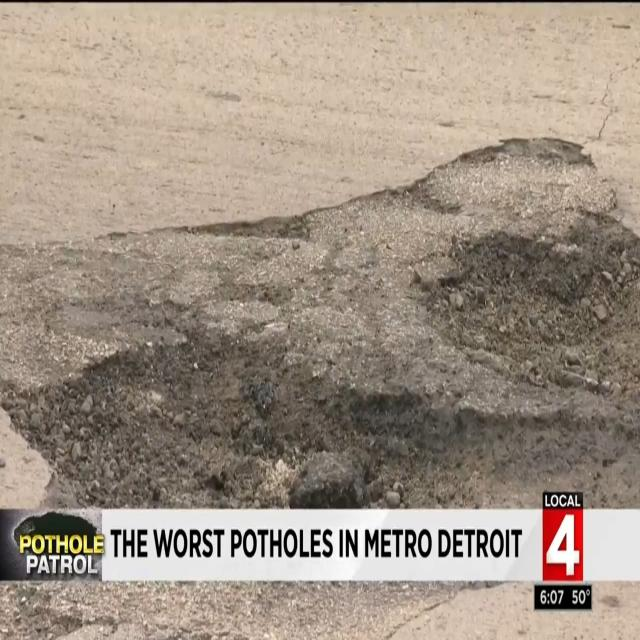pothole: (15, 139, 640, 582)
